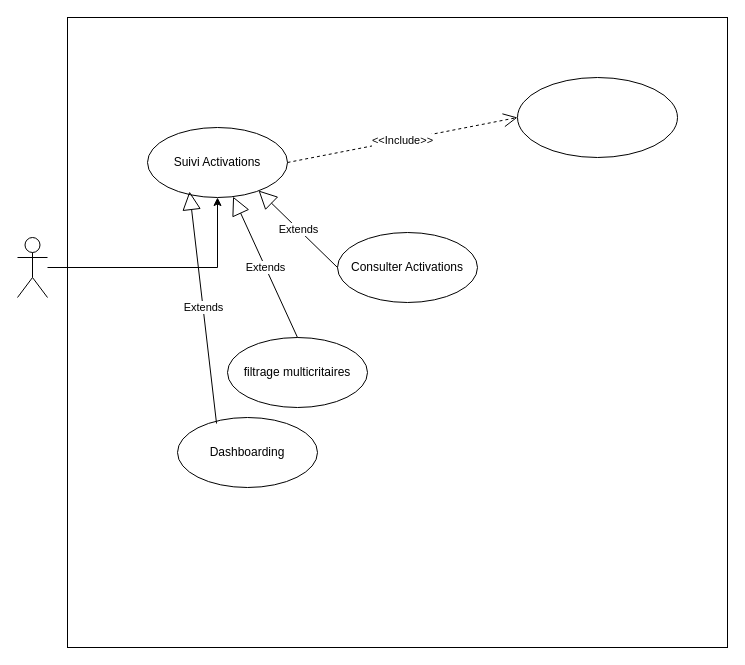
This 745x665 diagram has some shape labels left out. Each missing label, with the centre of its shape:
Actor: [32,267]
Authentification: [597,117]
